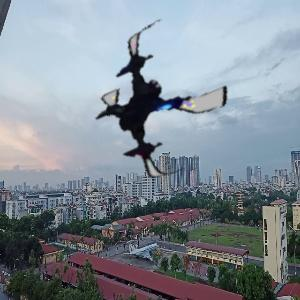drone: (84, 22, 242, 180)
